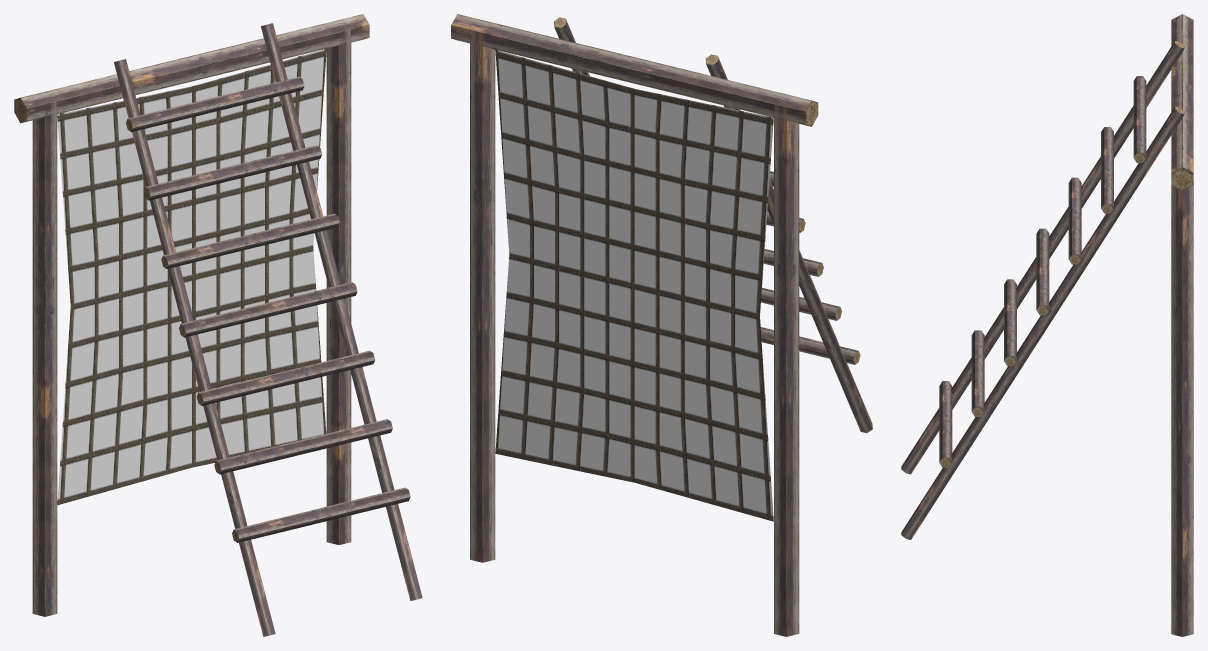
File: ParkourScaffolding03.obj
3 renders of one model, left to right at view 1: azimuth 30°, elevation 25°; view 2: azimuth 150°, elevation 25°; view 3: azimuth 270°, elevation 25°, orthographic. The views are drawn at different scales.
Visible parts, largest first — view 1: ParkourScaffolding03.Net, Parkourscaffolding03.Ladder; view 2: ParkourScaffolding03.Net, Parkourscaffolding03.Ladder; view 3: Parkourscaffolding03.Ladder, ParkourScaffolding03.Net.
Part boxes in pixels (x1,y1,x2,y2): ParkourScaffolding03.Net: (14,14,369,616); Parkourscaffolding03.Ladder: (114,23,422,636); ParkourScaffolding03.Net: (451,14,818,636); Parkourscaffolding03.Ladder: (554,17,872,433); Parkourscaffolding03.Ladder: (901,41,1184,539); ParkourScaffolding03.Net: (1171,14,1193,636).
Bounding box in the file's own units: 7 × 10.46 × 5.65.
